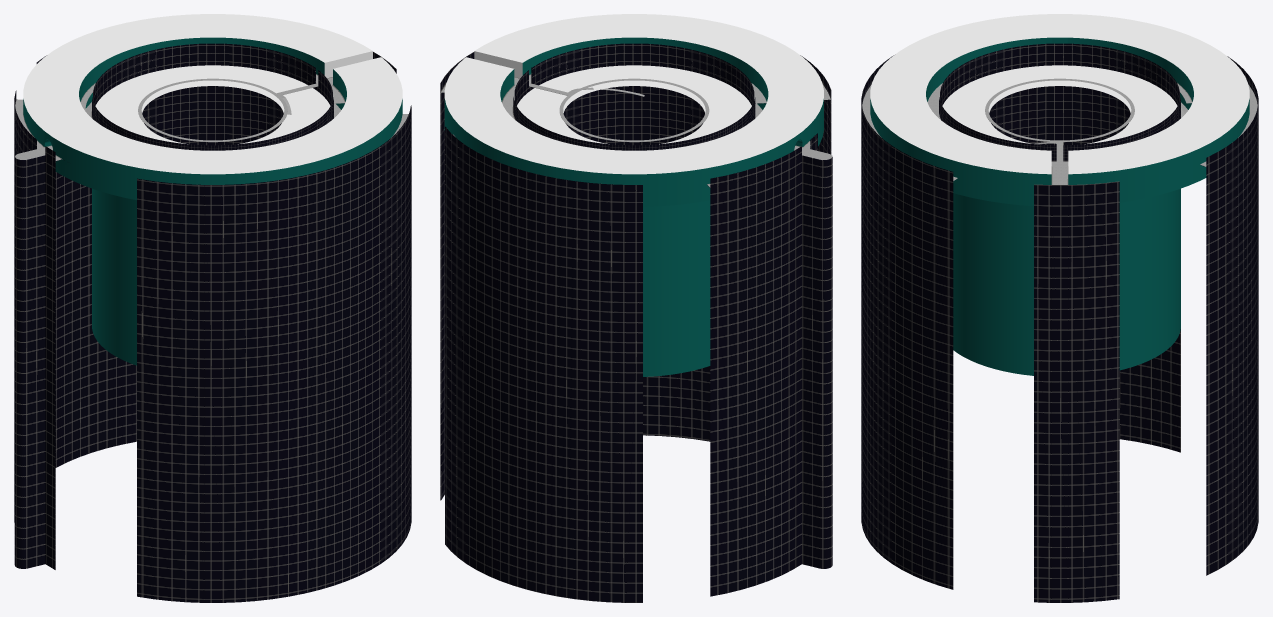
File: stage_2F_tillingwall.fbx
3 views of the same model, side by side, from view 1: azimuth 30°, elevation 25°; view 2: azimuth 150°, elevation 25°; view 3: azimuth 270°, elevation 25° (orthographic).
Parts seen in each view (by area): view 1: water_surface4; view 2: water_surface4; view 3: water_surface4.
Part boxes in pixels (<box>): water_surface4: <box>14,14,411,602</box>; water_surface4: <box>440,14,832,602</box>; water_surface4: <box>861,14,1258,602</box>.
Bounding box in the file's own units: 14593 × 16061 × 13599.
Materials: 4 (2 with a texture image).
